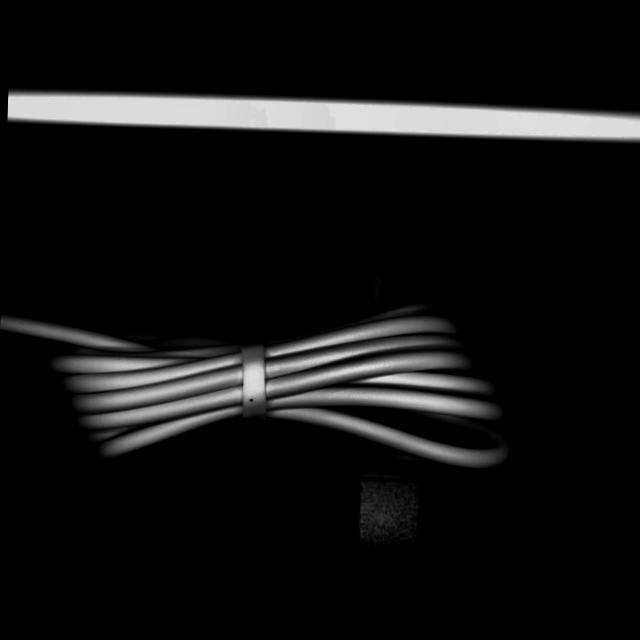Cable: (0, 281, 520, 480)
